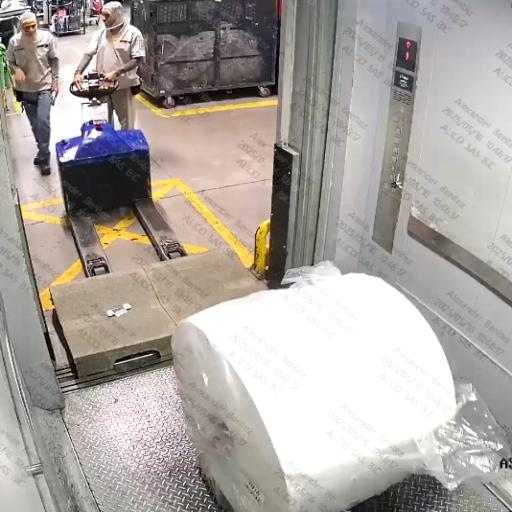rollos caidos: (27, 66, 468, 512)
